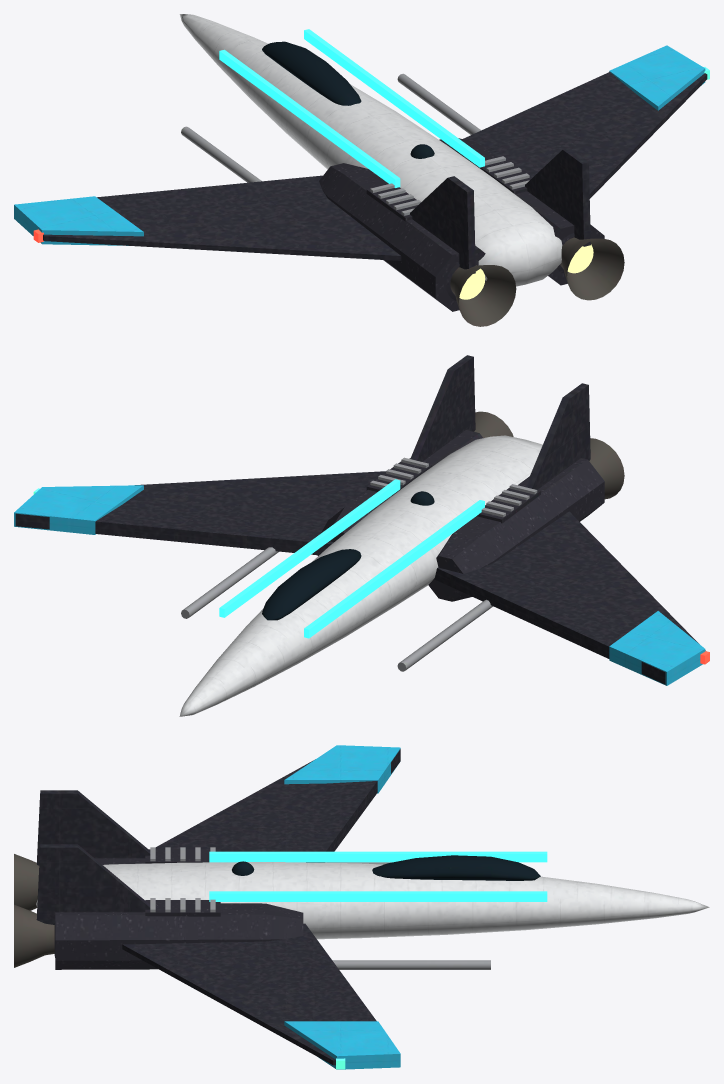
The model's file is game-lance.glb.
The picture shows the model from 3 angles, top to bottom: view 1: azimuth 30°, elevation 25°; view 2: azimuth 150°, elevation 25°; view 3: azimuth 270°, elevation 25°; orthographic projection. The views are drawn at different scales.
Parts seen in each view (by area): view 1: lance; view 2: lance; view 3: lance.
Part boxes in pixels (left/top/right/bottom): lance: left=14, top=14, right=709, bottom=326; lance: left=14, top=355, right=709, bottom=716; lance: left=14, top=745, right=709, bottom=1069.
Bounding box in the file's own units: 19.85 × 3.55 × 18.53.
Materials: 6 (2 with a texture image).
